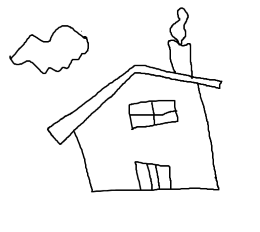closed_window: (129, 100, 178, 130)
clouds: (7, 24, 90, 74)
door: (132, 153, 178, 196)
roof: (47, 63, 223, 147)
smoking_chimney: (163, 5, 196, 77)
wall: (72, 74, 219, 195)
